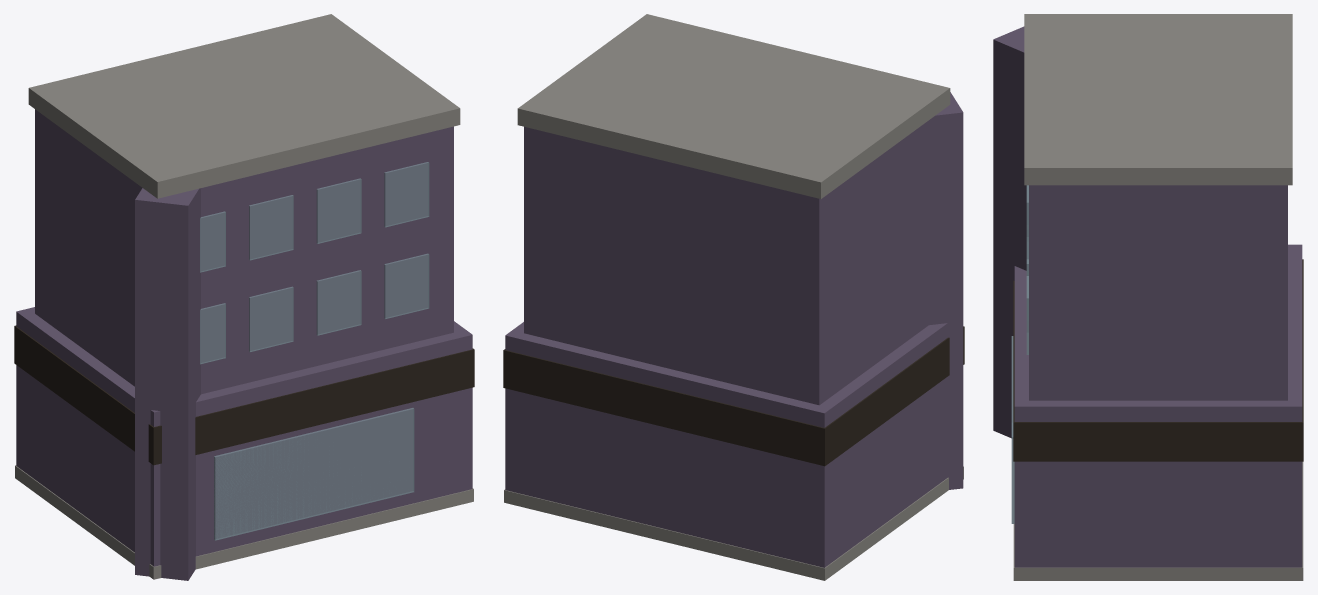
File: SM_H_Street_Corner_Block_A.obj
The picture shows the model from 3 angles, left to right: view 1: azimuth 30°, elevation 25°; view 2: azimuth 150°, elevation 25°; view 3: azimuth 270°, elevation 25°; orthographic projection. The views are drawn at different scales.
Parts seen in each view (by area): view 1: mass_upper, mass_lower, parapet, corner_chamfer, shopfront_glass, shop_band, stall_riser, window_row_a_3, window_row_b_2, window_row_b_3, window_row_a_2, window_row_b_1 (+3 smaller); view 2: mass_upper, mass_lower, parapet, shop_band, corner_chamfer, stall_riser; view 3: mass_upper, parapet, mass_lower, shop_band, corner_chamfer, stall_riser, shopfront_glass.
Part boxes in pixels (x1,y1,x2,y2): mass_upper: [35, 109, 453, 394]; mass_lower: [16, 307, 472, 566]; parapet: [28, 14, 460, 198]; corner_chamfer: [135, 188, 200, 580]; shopfront_glass: [214, 408, 414, 540]; shop_band: [14, 325, 474, 465]; stall_riser: [15, 465, 473, 579]; window_row_a_3: [384, 253, 429, 318]; window_row_b_2: [316, 178, 361, 243]; window_row_b_3: [384, 162, 429, 227]; window_row_a_2: [316, 270, 361, 335]; window_row_b_1: [249, 195, 293, 260]; mass_upper: [524, 120, 928, 405]; mass_lower: [505, 322, 947, 567]; parapet: [517, 14, 950, 198]; shop_band: [503, 326, 964, 466]; corner_chamfer: [929, 92, 963, 489]; stall_riser: [504, 466, 963, 580]; mass_upper: [1029, 185, 1287, 400]; parapet: [1024, 14, 1292, 185]; mass_lower: [1014, 244, 1302, 567]; shop_band: [1013, 259, 1303, 461]; corner_chamfer: [993, 26, 1026, 438]; stall_riser: [1013, 461, 1303, 580]; shopfront_glass: [1011, 336, 1014, 523].
Bounding box in the file's own units: 8.28 × 9.4 × 6.48.
